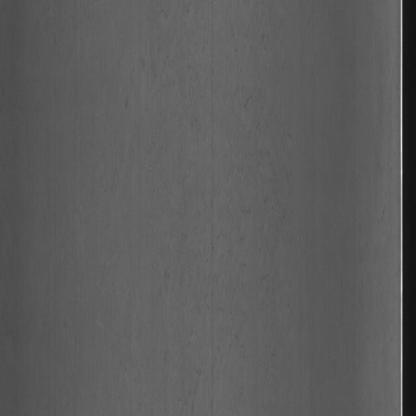silk_spot: (163, 74, 290, 348)
